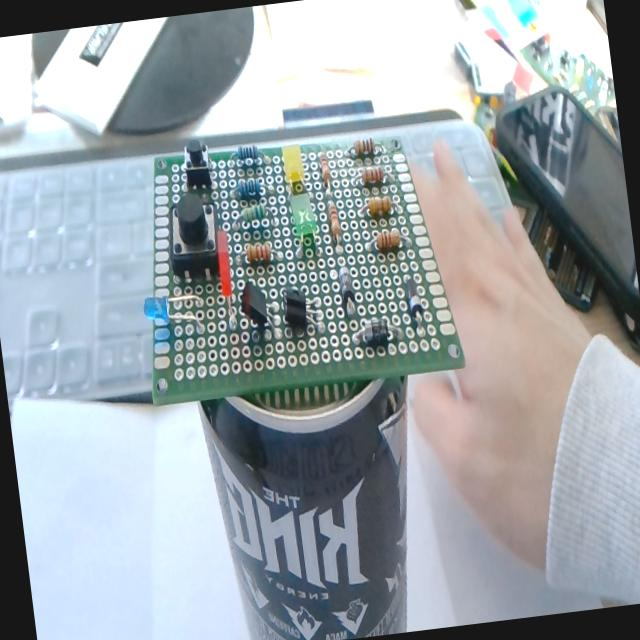diode: (346, 312, 408, 356), (399, 270, 432, 330), (333, 258, 359, 324)
led: (138, 286, 210, 344), (210, 219, 245, 336), (282, 192, 326, 264), (275, 137, 314, 199)
resistor: (231, 238, 286, 274), (363, 223, 412, 263), (223, 170, 274, 206), (228, 202, 278, 234), (222, 140, 270, 172), (354, 190, 402, 222), (339, 132, 388, 162), (348, 162, 397, 190), (312, 144, 336, 198), (323, 197, 345, 253)
switch: (161, 192, 228, 288), (174, 130, 216, 194)
transistor: (277, 278, 325, 350), (236, 274, 282, 346)
